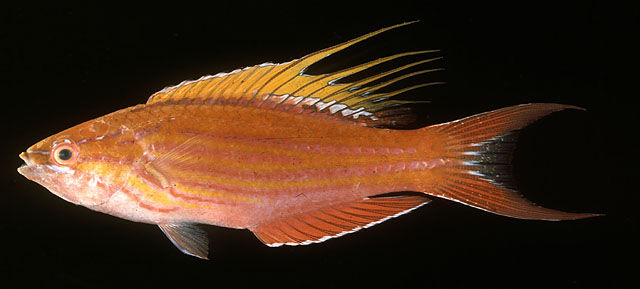fish: (16, 22, 602, 259)
